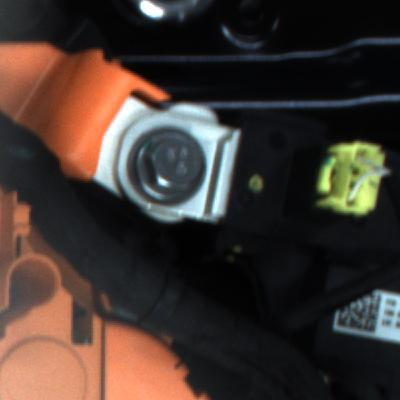nut_b: (124, 119, 209, 211)
